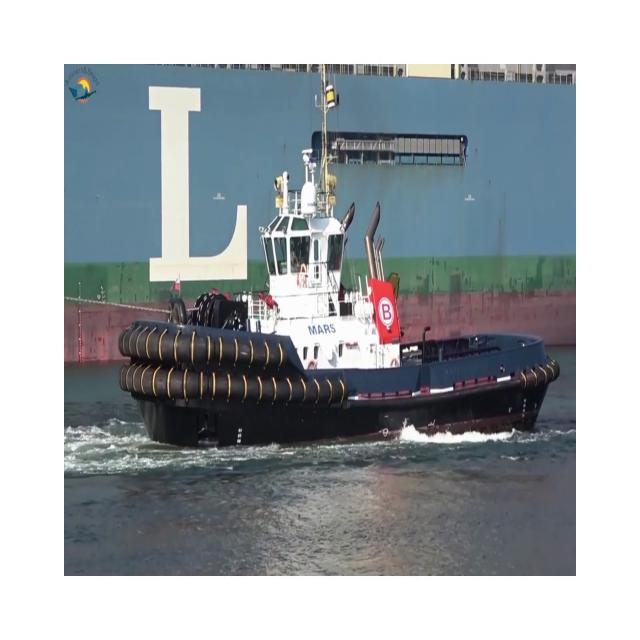OCR: (133, 83, 265, 300)
